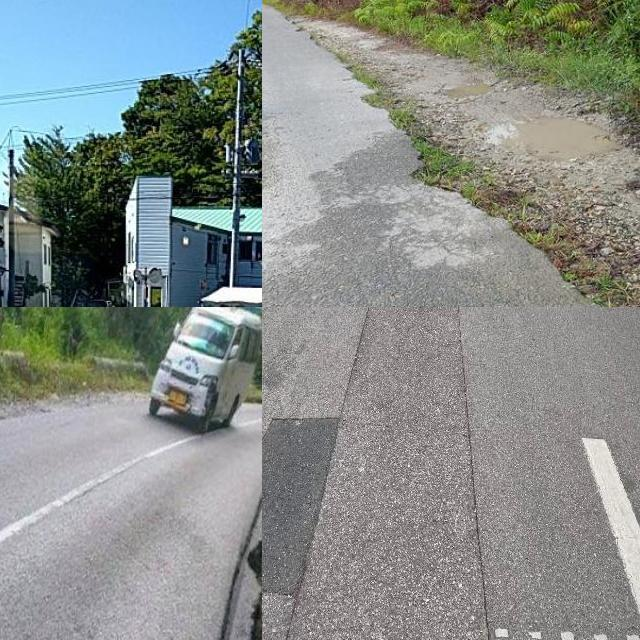Pinggir: (278, 7, 640, 307)
Sambungan: (262, 307, 491, 640)
